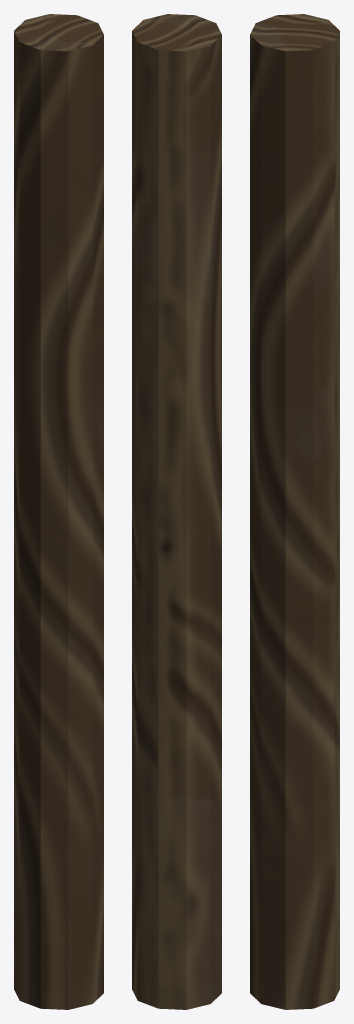
File: Wooden_Beam_Vertical_Short_Circular.fbx
The picture shows the model from 3 angles, left to right: view 1: azimuth 30°, elevation 25°; view 2: azimuth 210°, elevation 25°; view 3: azimuth 330°, elevation 25°; orthographic projection.
Visible parts, largest first — view 1: pCylinder10; view 2: pCylinder10; view 3: pCylinder10.
Part boxes in pixels (box(x1,y1,x2,y2)): pCylinder10: box(14, 14, 103, 1009); pCylinder10: box(132, 14, 221, 1009); pCylinder10: box(250, 14, 339, 1009).
Bounding box in the file's own units: 0.3422 × 4 × 0.3254.
